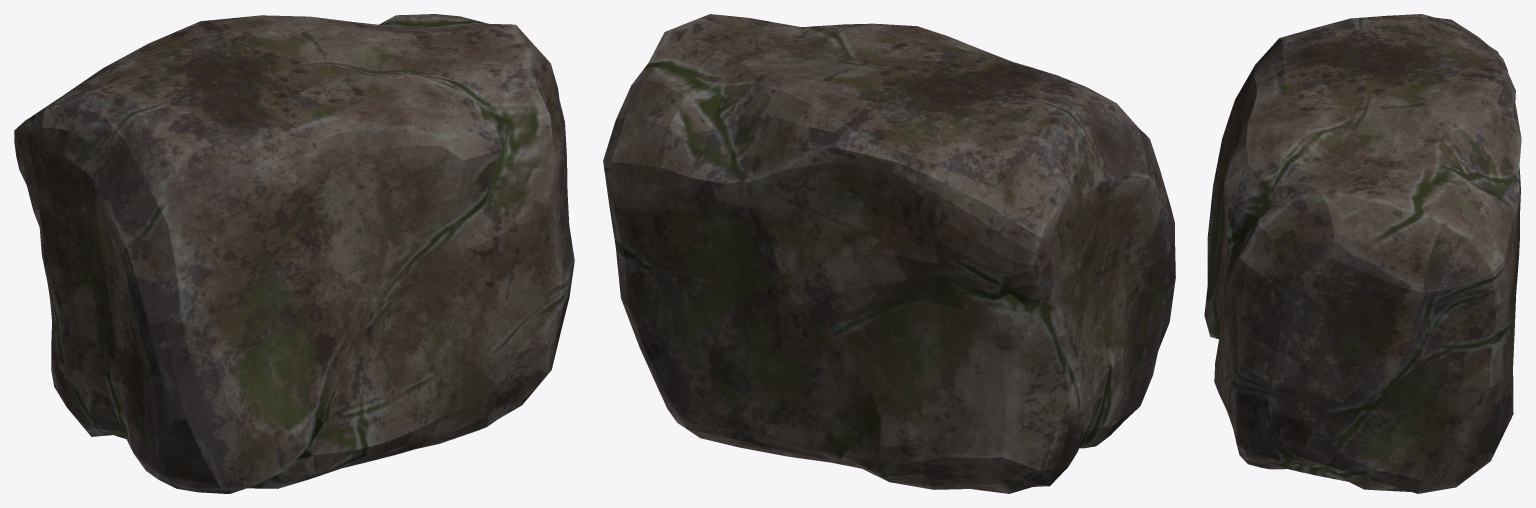
File: SM_BuildingRock.fbx
3 renders of one model, left to right at view 1: azimuth 30°, elevation 25°; view 2: azimuth 150°, elevation 25°; view 3: azimuth 270°, elevation 25°, orthographic. The views are drawn at different scales.
Parts seen in each view (by area): view 1: SM_BuildingRock_LOD0; view 2: SM_BuildingRock_LOD0; view 3: SM_BuildingRock_LOD0.
Boxes of the visible parts, x1,y1,x2,y2 form: SM_BuildingRock_LOD0: (14, 14, 574, 493); SM_BuildingRock_LOD0: (603, 14, 1175, 493); SM_BuildingRock_LOD0: (1204, 14, 1521, 493).
Bounding box in the file's own units: 117 × 76.17 × 89.49.
1 material, 1 textured.
